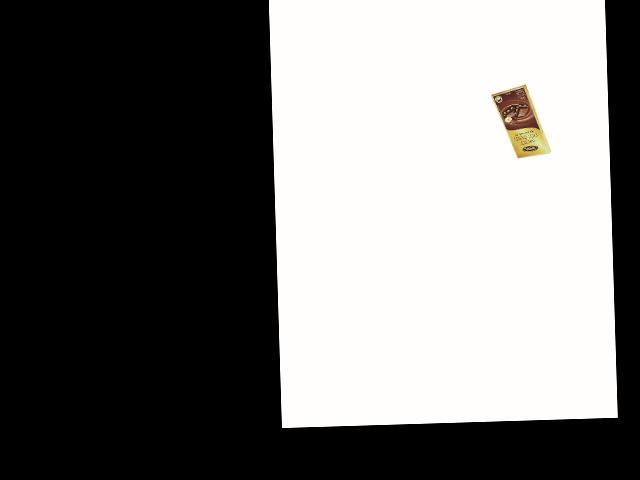chocolate: (490, 77, 553, 159)
